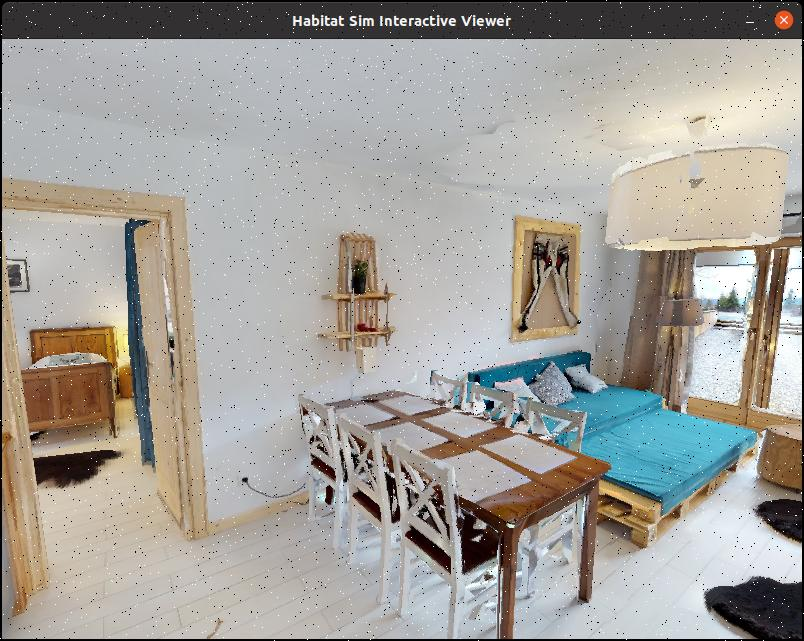chair: (393, 427, 520, 641), (335, 399, 436, 594)
door-frame: (0, 173, 216, 595)
sofa: (443, 333, 762, 562)
table: (299, 369, 622, 638)
